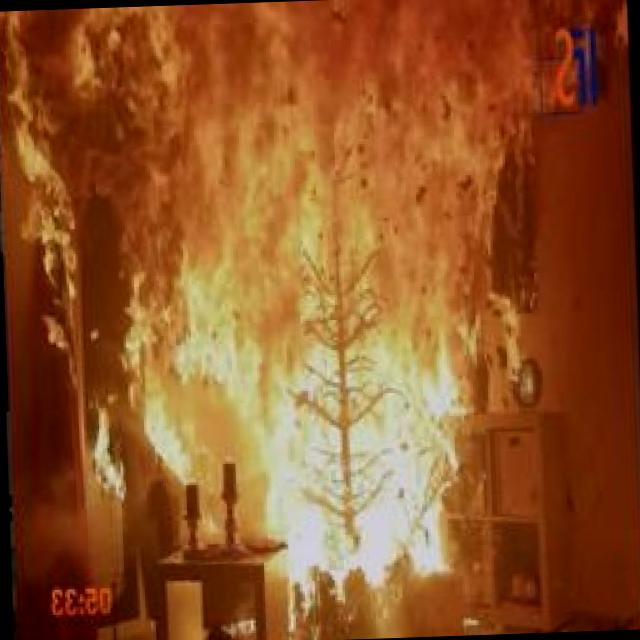fire: (25, 0, 635, 583)
